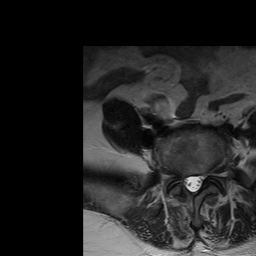CCS_normal: (189, 170, 198, 198)
LFS_stenosis: (204, 165, 212, 184)
LLS_normal: (197, 169, 205, 192)
RFS_severe_stenosis: (175, 168, 183, 187)
RLS_normal: (182, 171, 190, 196)
